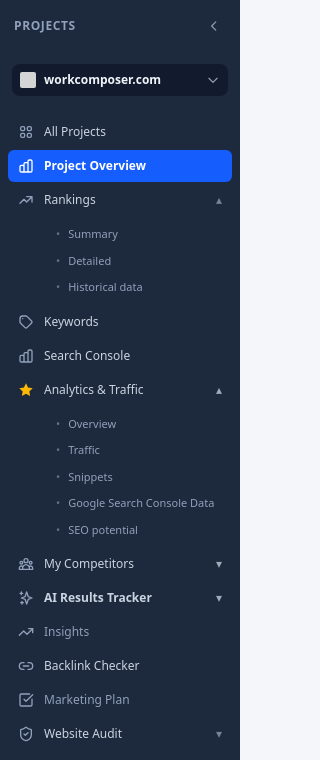
Scenario: ProjectSidebar Component › allows expanding and collapsing nested sections like My Competitors and Analytics
Click the button named "Toggle My Competitors menu": click(219, 564) [206,548,232,580]
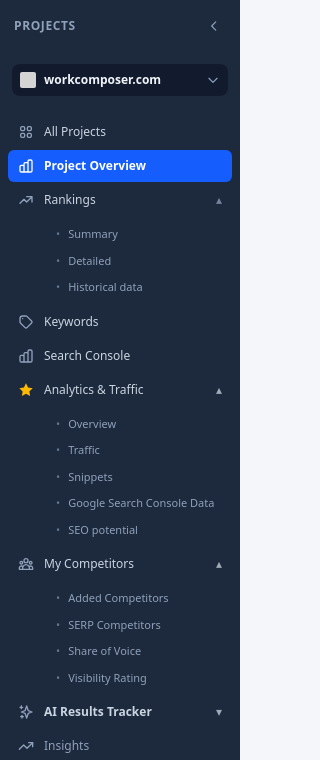
Expected: the link named "•Added Competitors" is shown, [56,590,169,605]
Expected: the link named "•SERP Competitors" is shown, [56,616,161,632]
Expected: the link named "•Share of Voice" is shown, [56,643,141,658]
Click the button named "Toggle Analytics & Traffic menu": click(219, 390) [206,374,232,406]
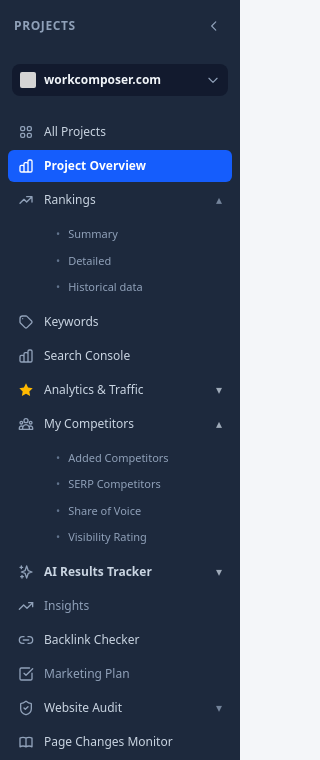
Expected: the link "Google Search Console Data" is gone
